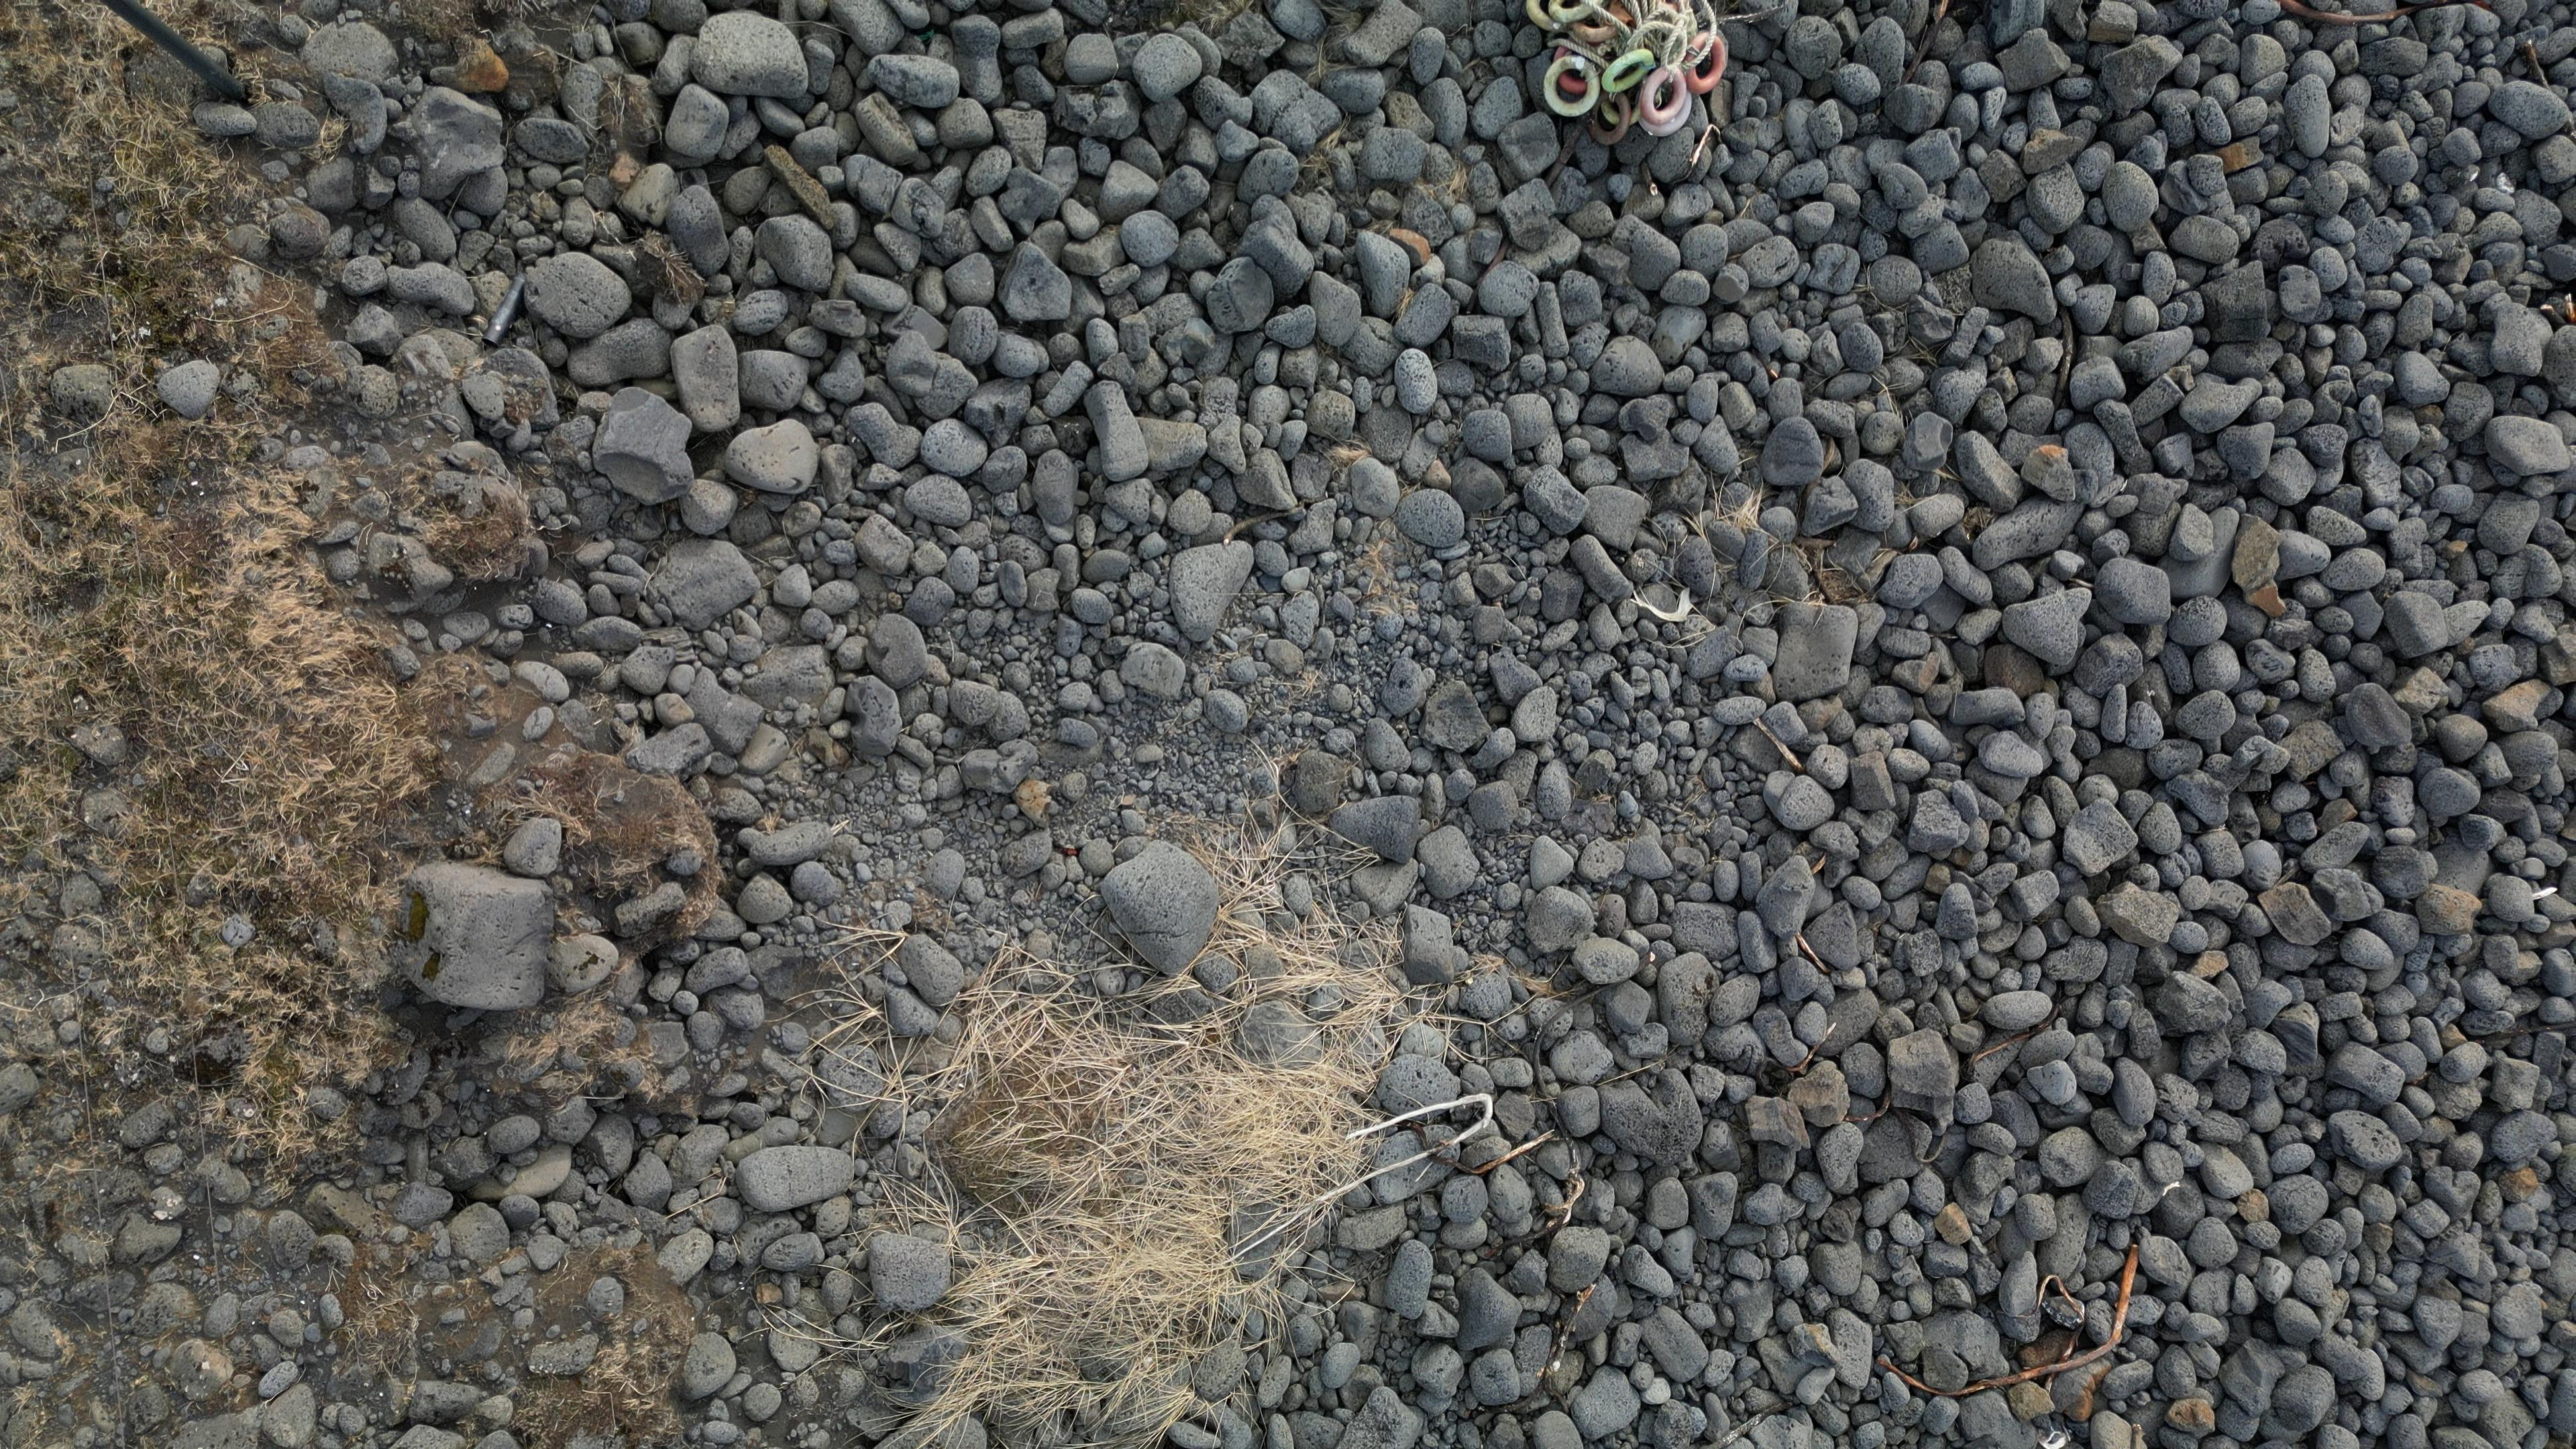trash: (1529, 0, 1725, 141)
